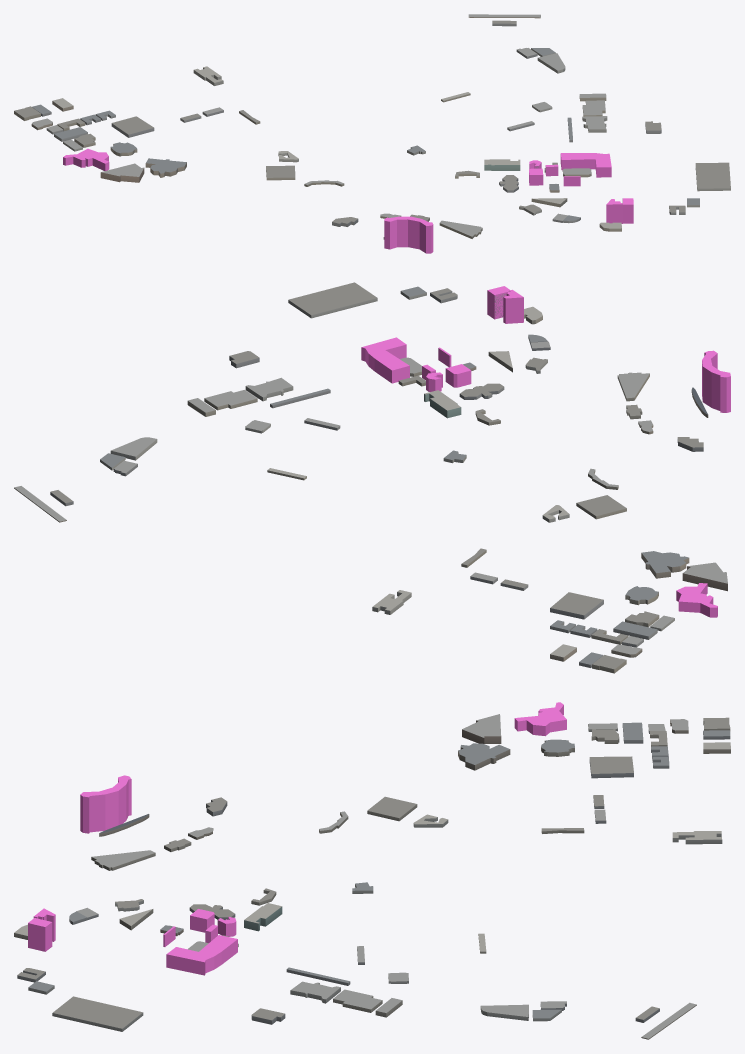
Rendered from bld_16_11.fbx.
3 renders of one model, top to bottom at view 1: azimuth 30°, elevation 25°; view 2: azimuth 150°, elevation 25°; view 3: azimuth 270°, elevation 25°, orthographic. The views are drawn at different scales.
Parts seen in each view (by area): view 1: bld_16_11_LOD0, bld_16_11_COL; view 2: bld_16_11_LOD0, bld_16_11_COL; view 3: bld_16_11_LOD0, bld_16_11_COL.
Boxes of the visible parts, <box> form: bld_16_11_LOD0: <box>14,14,730,239</box>; bld_16_11_COL: <box>63,148,633,253</box>; bld_16_11_LOD0: <box>14,282,727,673</box>; bld_16_11_COL: <box>361,286,730,617</box>; bld_16_11_LOD0: <box>14,714,730,1039</box>; bld_16_11_COL: <box>28,702,566,975</box>.
Size of what is drawn, in the model's own units: 2118 by 110 by 1959.
